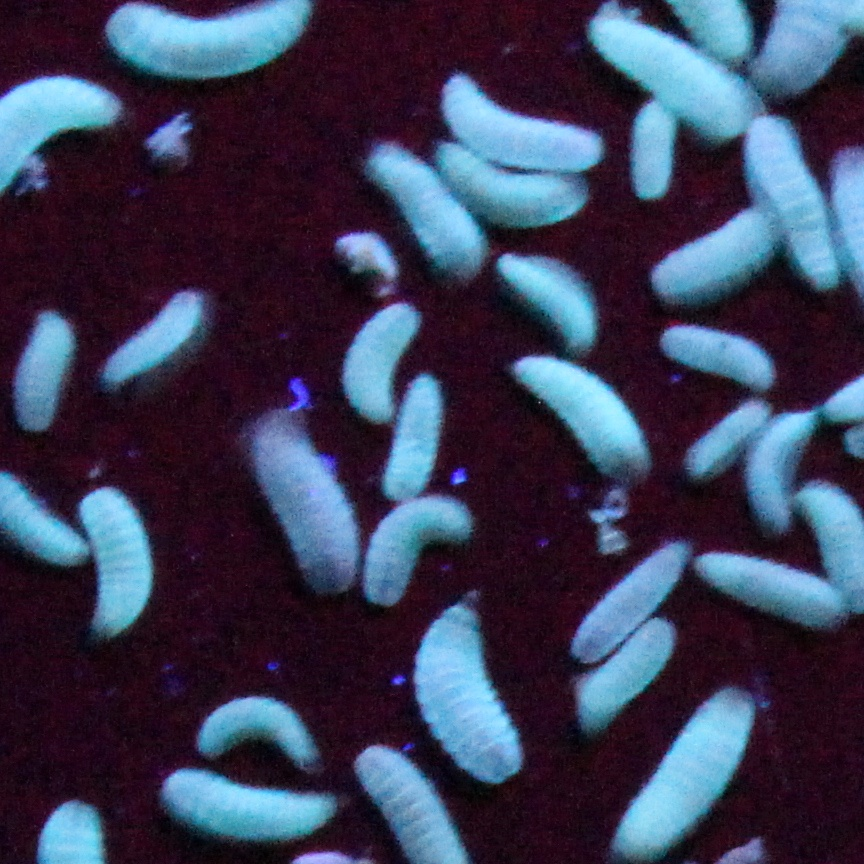larve: (612, 687, 755, 860), (592, 13, 759, 136), (249, 415, 355, 595), (357, 134, 484, 277), (520, 354, 651, 481), (410, 621, 512, 770), (108, 1, 310, 74), (573, 536, 692, 658), (749, 117, 833, 281), (161, 770, 337, 844), (449, 77, 602, 162), (443, 142, 586, 228), (700, 554, 849, 628), (371, 501, 471, 609), (86, 493, 157, 644), (577, 625, 675, 734), (341, 301, 422, 423), (655, 213, 773, 295), (500, 252, 596, 352), (108, 299, 216, 385), (204, 691, 329, 764), (653, 323, 777, 387), (18, 309, 78, 432), (384, 379, 447, 495), (688, 395, 761, 477), (759, 417, 808, 532), (631, 97, 684, 199)
